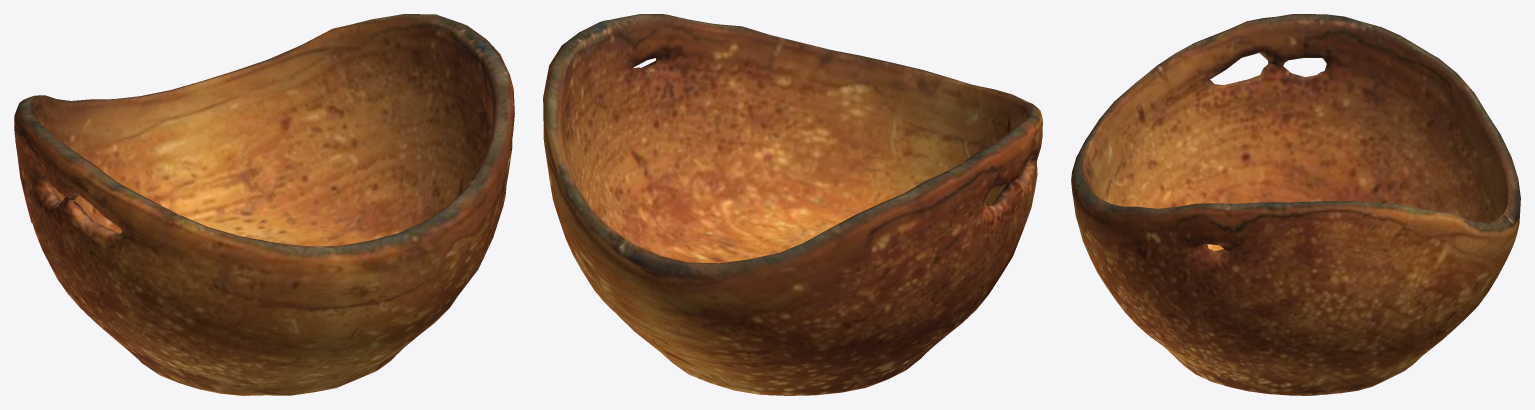
Rendered from wooden_bowl_02.glb.
The picture shows the model from 3 angles, left to right: view 1: azimuth 30°, elevation 25°; view 2: azimuth 150°, elevation 25°; view 3: azimuth 270°, elevation 25°; orthographic projection. The views are drawn at different scales.
Visible parts, largest first — view 1: wooden_bowl_02; view 2: wooden_bowl_02; view 3: wooden_bowl_02.
Part boxes in pixels (box(x1,y1,x2,y2)): wooden_bowl_02: box(14, 14, 514, 395); wooden_bowl_02: box(543, 14, 1042, 395); wooden_bowl_02: box(1071, 14, 1520, 395).
Size of the model in its own units: 0.1307 by 0.0731 by 0.1245.
1 material, 1 textured.
